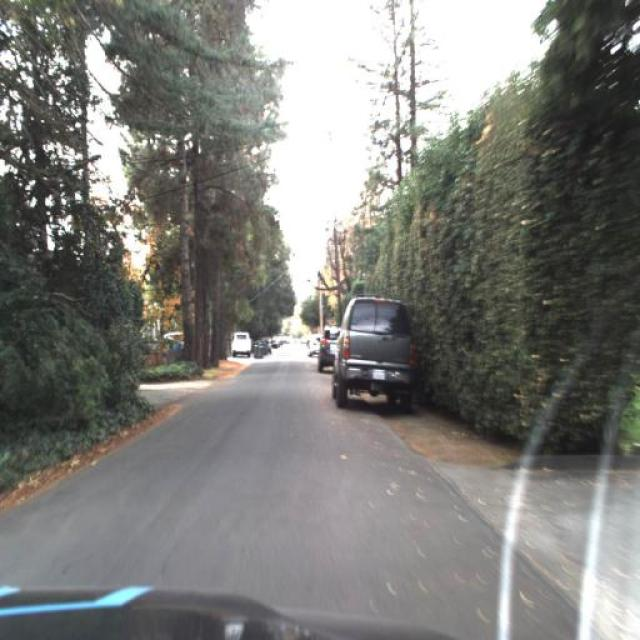car: (331, 292, 415, 411), (315, 321, 341, 377), (228, 328, 254, 362)
